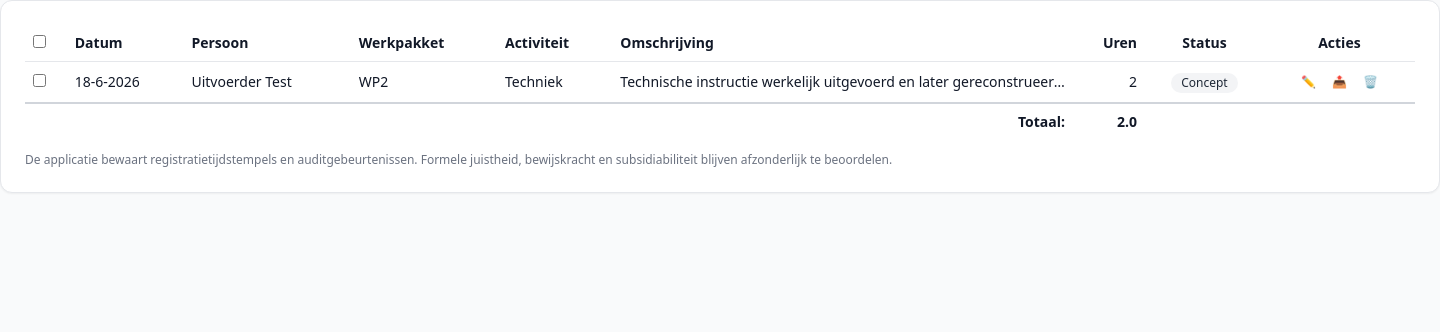
Test: HoursList historische reconstructies › wist een bulkselectie niet wanneer de bulkroute faalt
Step 1. Click the checkbox named "selecteer urenregel" → (40, 80), box [33,74,46,87]
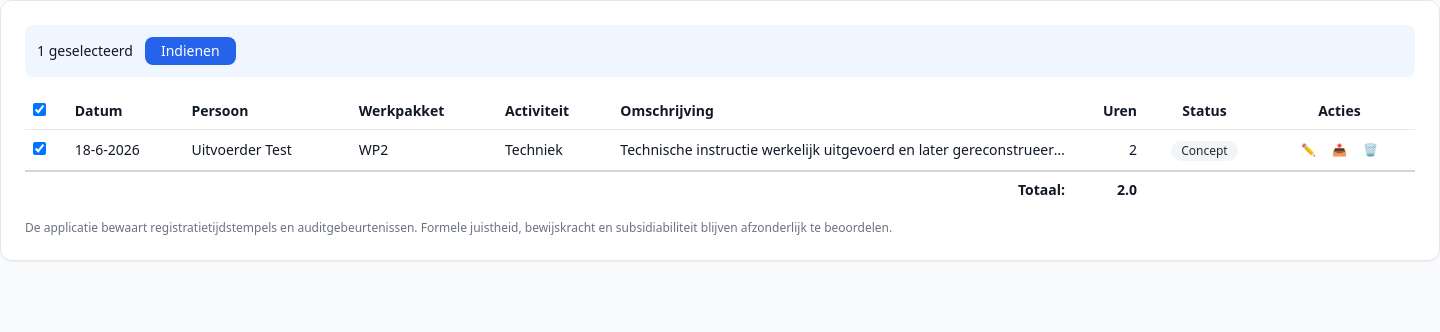
Step 2. Click the button named "indienen geselecteerde" → (190, 51), box [145,37,236,65]
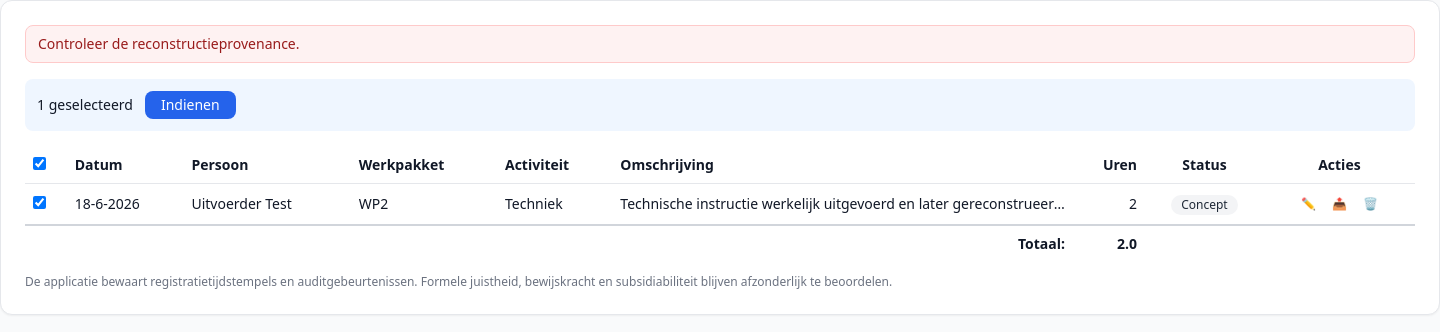
Check: the checkbox named "selecteer urenregel" is checked, box [33,196,46,209]
Check: the message reads "Controleer de reconstructieprovenance.", box [38,34,300,53]
